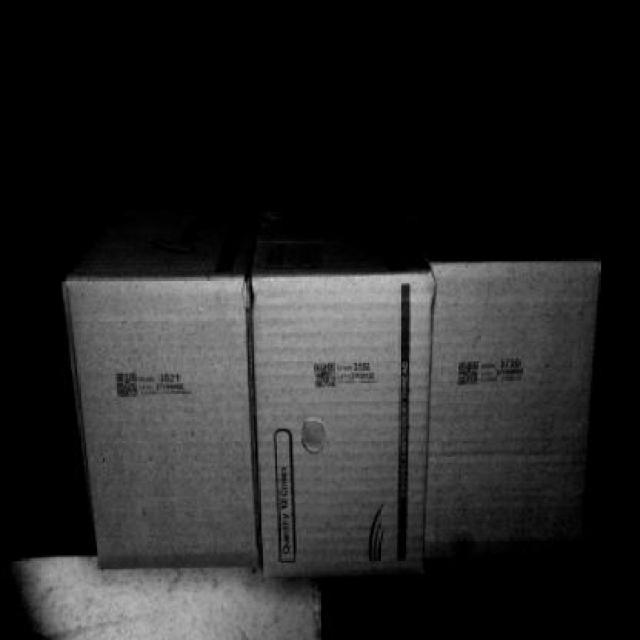cardboxes: (80, 276, 258, 564), (257, 278, 428, 571), (432, 262, 598, 552)
